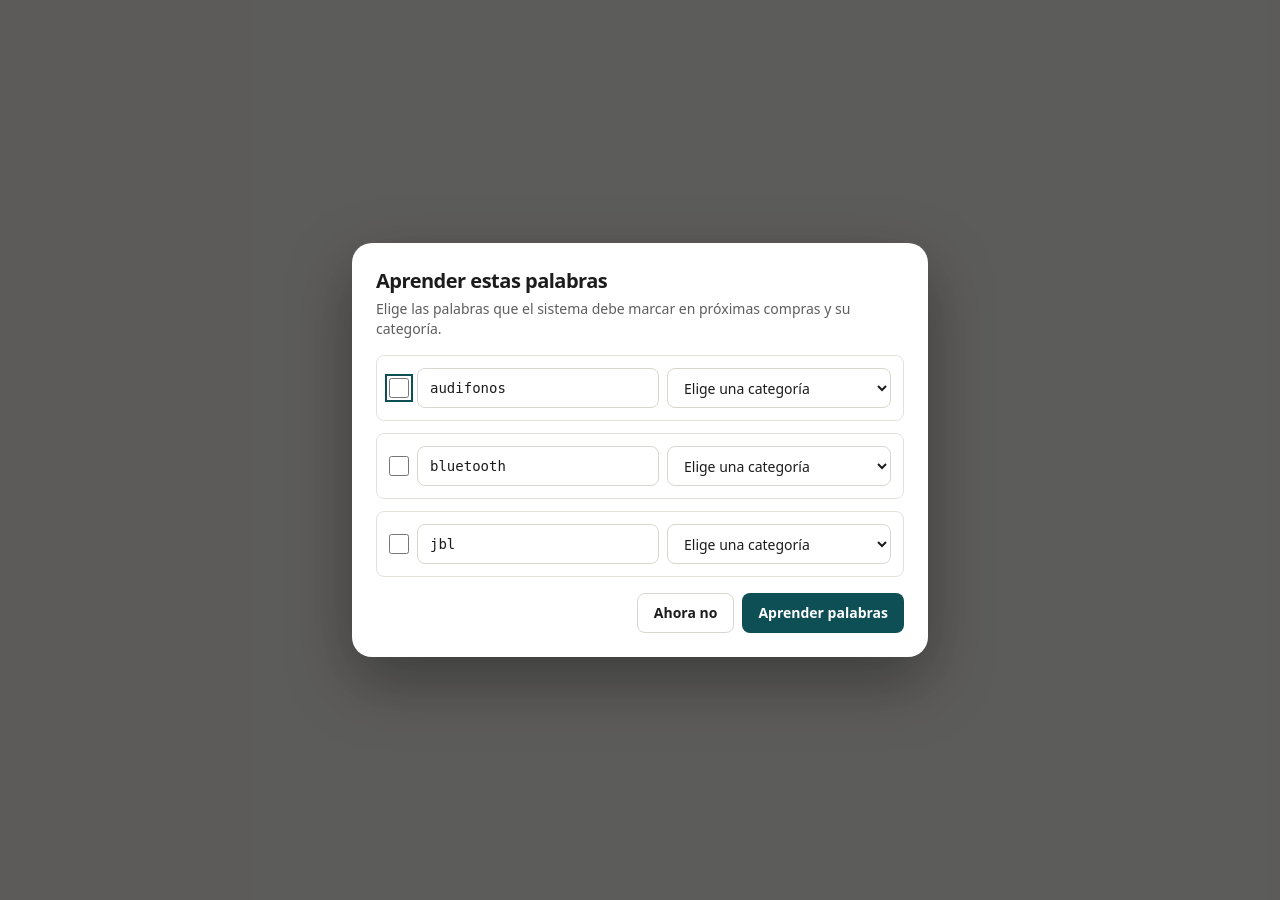
Test: <AprenderPalabras /> · guardar (R-7, CA-9) › un término corregido con espacios se rechaza en el formulario, sin enviar
Click the checkbox named "Incluir el término 2".
click(399, 466)  # box [389,456,409,476]
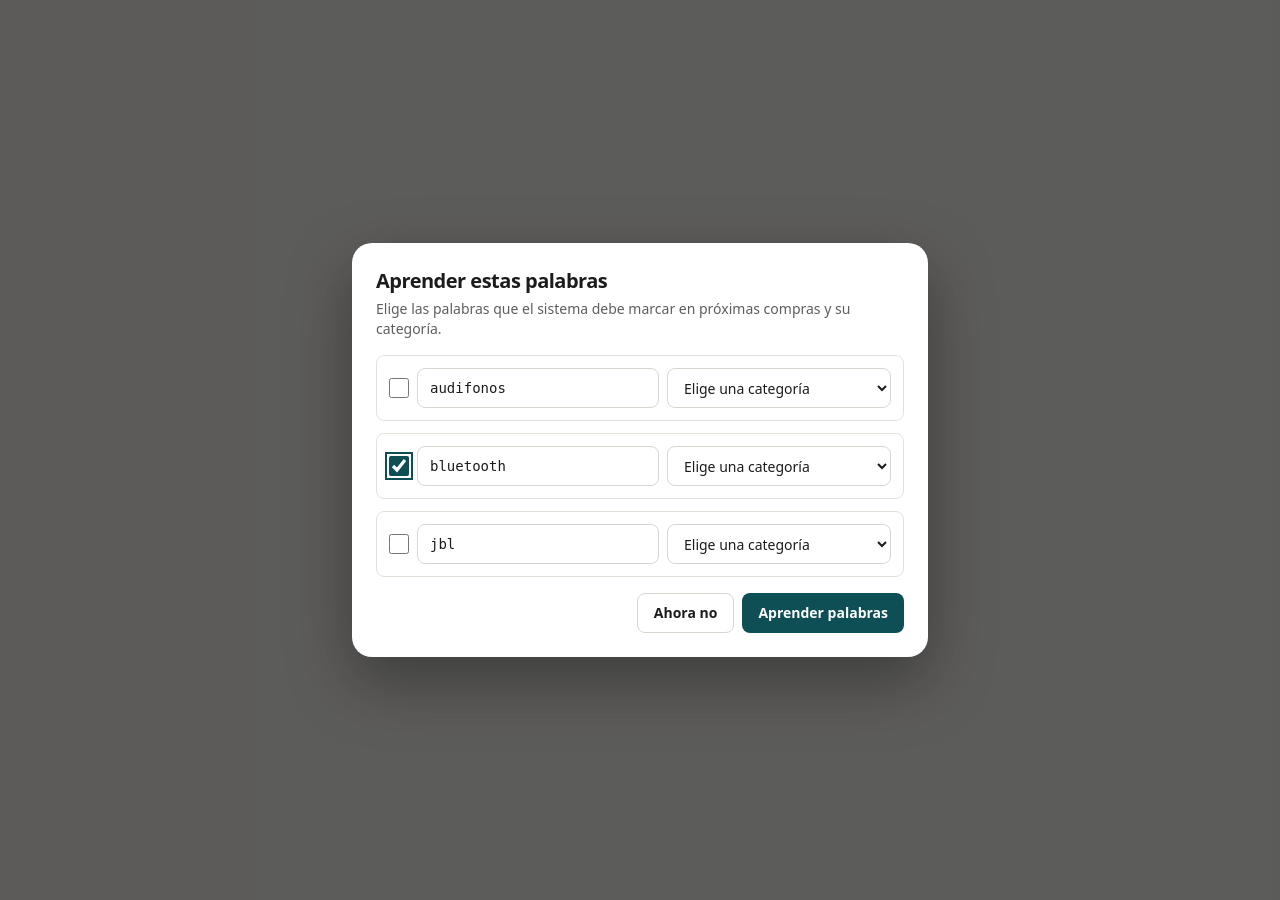
Select "Entretenimiento" in the dropdown named "Categoría del término 2" at (779, 466), box [667,446,891,486]
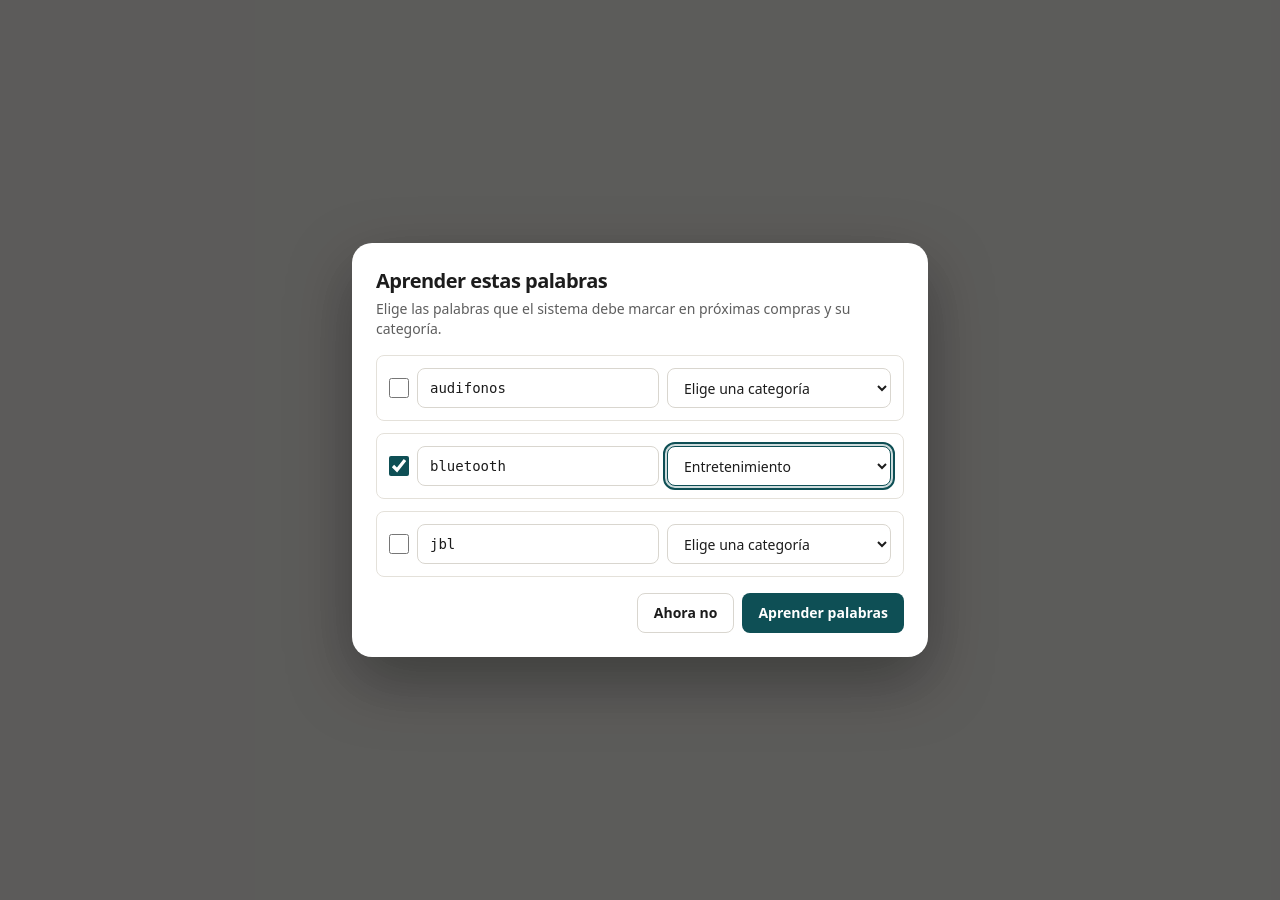
Replace the text in the field named "Término 2" with "dos palabras" at (538, 466), box [417,446,659,486]
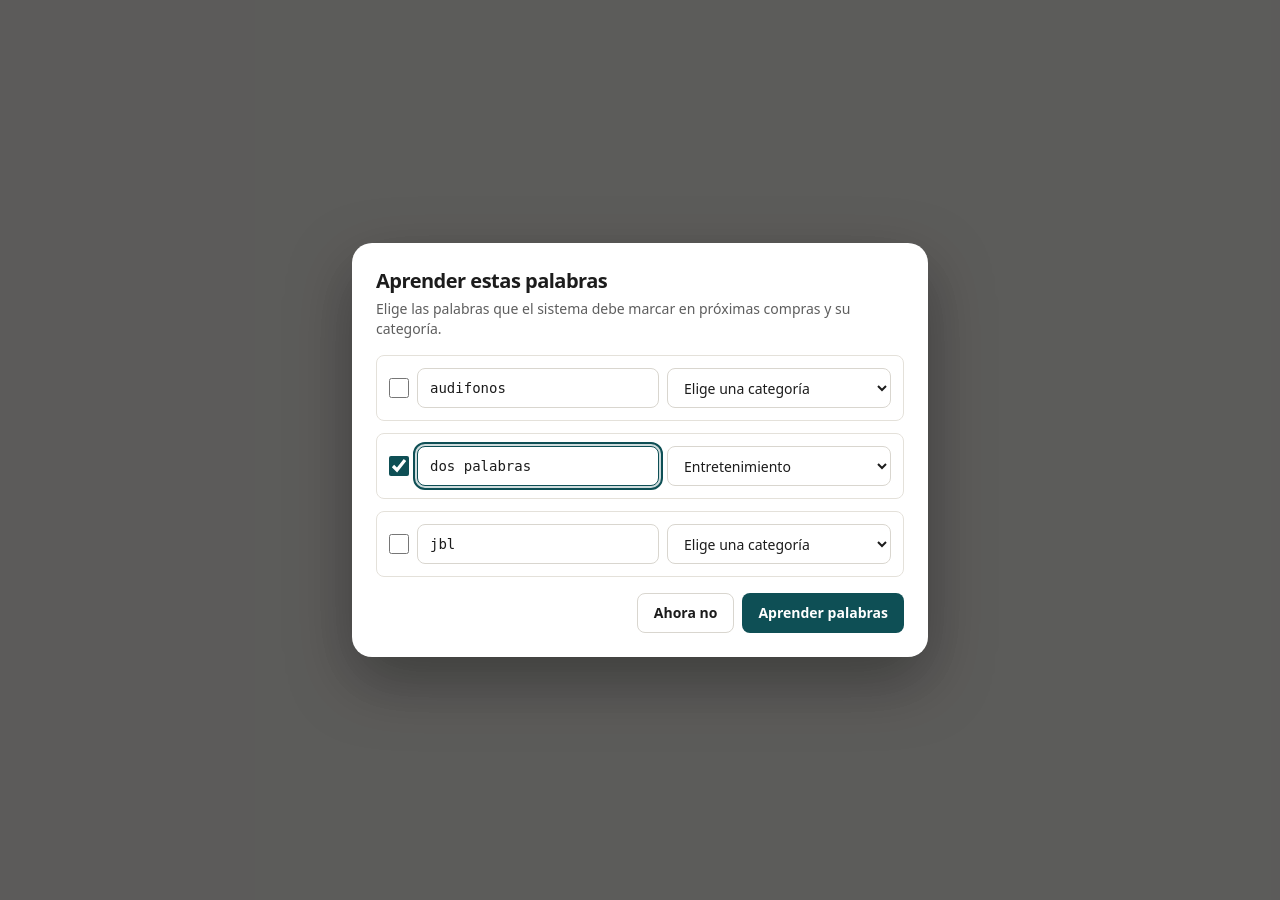
Click the button "Aprender palabras".
click(823, 613)  # box [742,593,904,633]
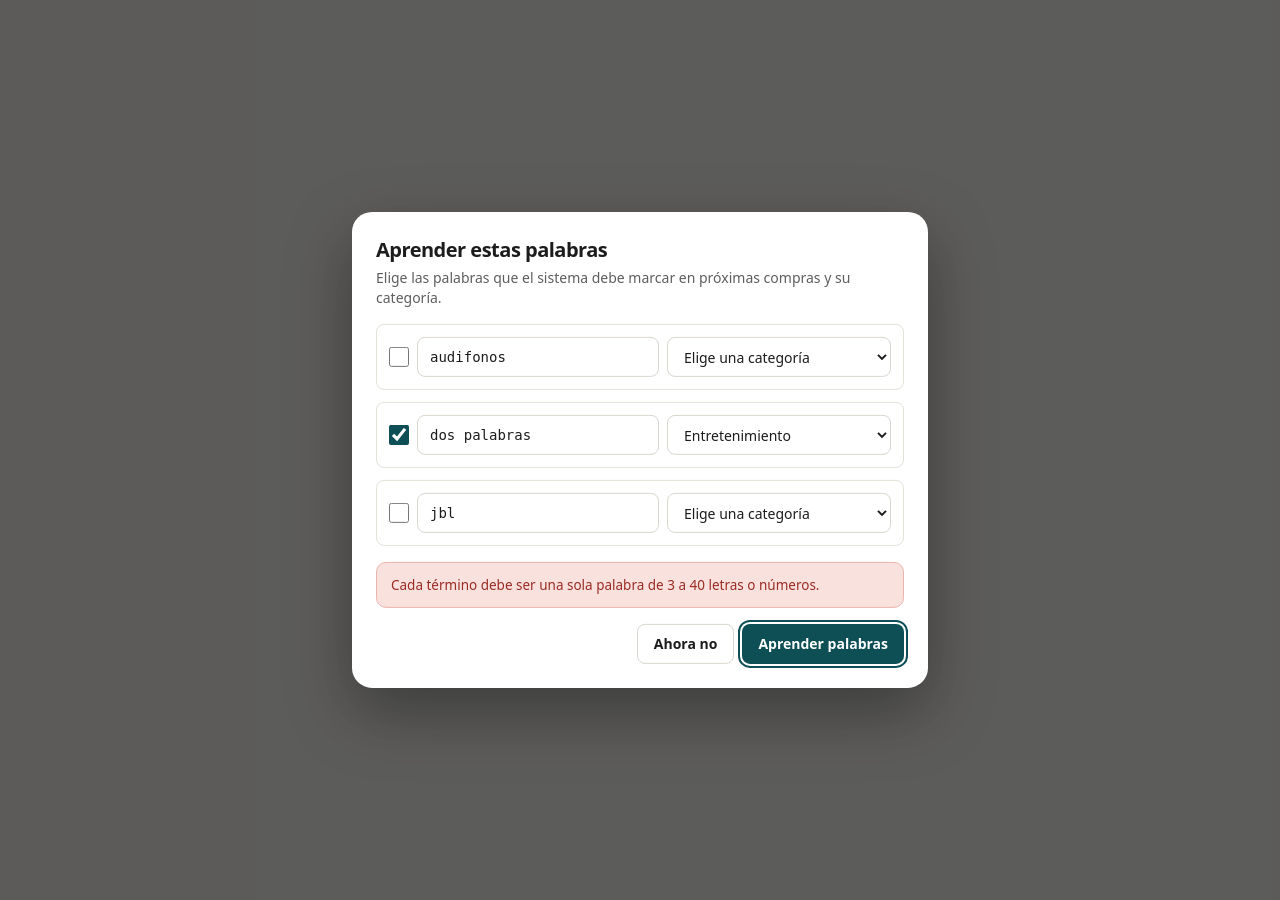
Check: the message reads "Cada término debe ser una sola palabra de 3 a 40 letras o números.", box [391,576,820,594]
